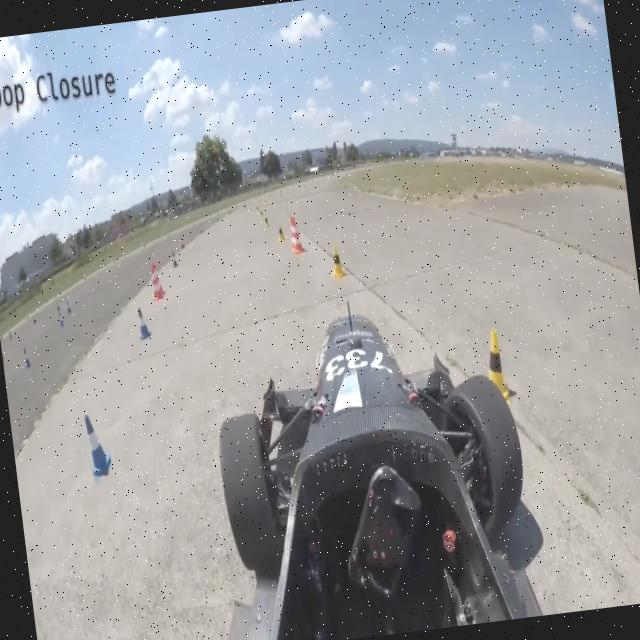blue_cone: (82, 409, 115, 482), (135, 306, 152, 340), (22, 345, 32, 369), (170, 250, 179, 268), (65, 298, 72, 314), (58, 311, 64, 328), (180, 236, 184, 249)
large_orange_cone: (146, 262, 164, 302), (290, 214, 304, 255), (151, 260, 165, 295), (287, 214, 298, 252)
yellow_cone: (476, 322, 512, 404), (328, 243, 347, 280), (276, 225, 286, 242), (264, 215, 270, 227)
